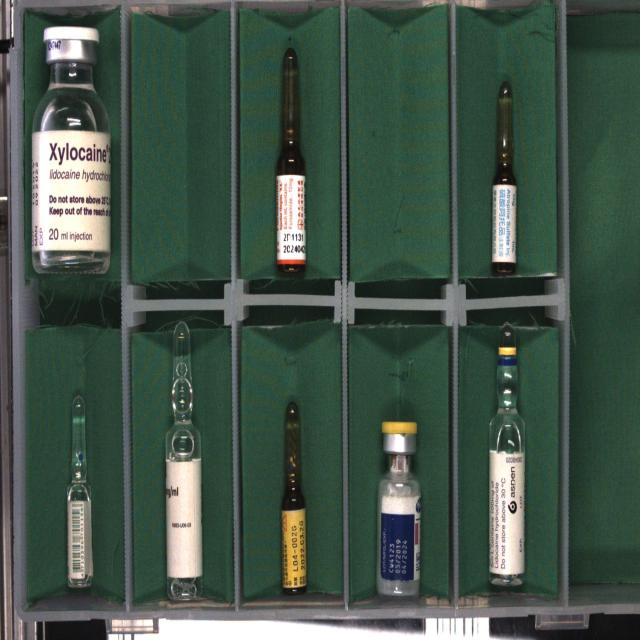Vials: (32, 27, 110, 272), (376, 420, 421, 596)
